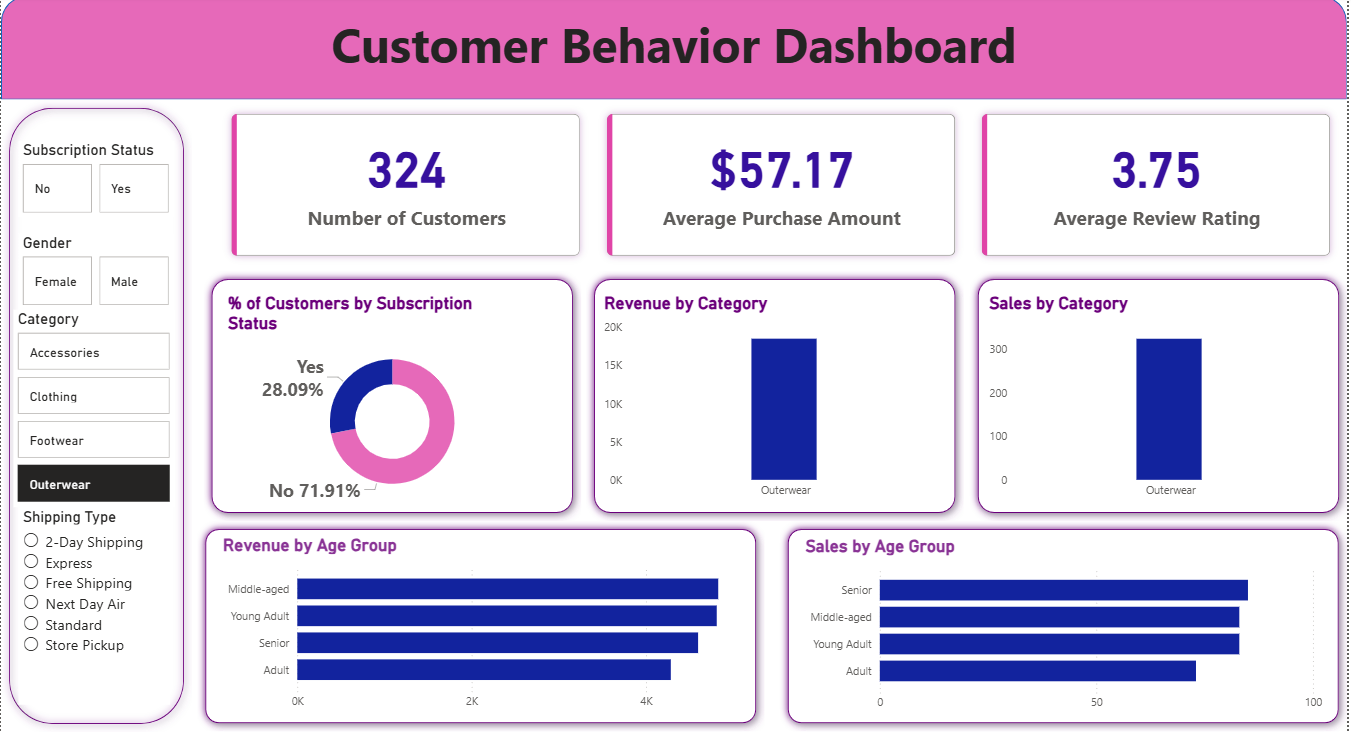

Layout of this report page (visuals, bound fields, positions):
{"tool":"powerbi","page":{"name":"Page 1","canvas":[1500,820],"ordinal":0},"visuals":[{"type":"cardVisual","fields":{"Data":["public customer.Number of Customers","public customer.Average Purchase Amount","public customer.Average Review Rating"]},"box":[240.9,115.6,1259,190.8],"z":2000},{"type":"shape","box":[218.3,585.6,631.7,234.2],"z":2500,"group":"g1"},{"type":"shape","box":[0,0,1499.4,115.3],"z":3000},{"type":"textbox","box":[0,12.4,1499.4,102.9],"z":4000},{"type":"shape","box":[225.4,307,420.5,278.6],"z":5000},{"type":"donutChart","title":"% of Customers by Subscription Status","fields":{"Category":["public customer.subscription_status"],"Y":["CountNonNull(public customer.customer_id)"]},"box":[248.4,331.8,376.2,237.8],"z":6000},{"type":"shape","box":[1078.9,307,420.5,278.6],"z":7000},{"type":"shape","box":[652.1,307,420.5,278.6],"z":8000},{"type":"clusteredColumnChart","title":"Revenue by Category","fields":{"Y":["Sum(public customer.purchase_amount)"],"Category":["public customer.category"]},"box":[667.2,331.8,385.1,237.8],"z":9000},{"type":"clusteredColumnChart","title":"Sales by Category","fields":{"Y":["CountNonNull(public customer.customer_id)"],"Category":["public customer.category"]},"box":[1096.6,331.8,385.1,237.8],"z":10000},{"type":"shape","box":[0,115.3,212.9,704.5],"z":11000},{"type":"advancedSlicerVisual","fields":{"Values":["public customer.subscription_status"]},"box":[19.5,161.5,173.9,85.2],"z":12000},{"type":"advancedSlicerVisual","fields":{"Values":["public customer.gender"]},"box":[19.5,264.4,173.9,85.2],"z":13000},{"type":"advancedSlicerVisual","fields":{"Values":["public customer.category"]},"box":[13.9,349.6,179.7,220],"z":14000},{"type":"listSlicer","fields":{"Values":["public customer.shipping_type"]},"box":[19.5,569.6,168.6,220],"z":15000},{"type":"shape","box":[867.7,585.6,631.7,234.2],"z":16000},{"type":"clusteredBarChart","title":"Sales by Age Group","fields":{"Y":["CountNonNull(public customer.customer_id)"],"Category":["public customer.age_group"]},"box":[890.8,601.5,585.6,204.1],"z":17000},{"type":"clusteredBarChart","title":"Revenue by Age Group","fields":{"Y":["Sum(public customer.purchase_amount)"],"Category":["public customer.age_group"]},"box":[241.4,601.6,585.6,204.1],"z":17500,"group":"g1"},{"type":"group","id":"g1","title":"Group 1","box":[218.3,585.6,631.7,234.2],"z":17501}]}

Visuals, with their boxes in screenshot pixels (x1, y1, x2, y2), scaled from the page's 1500x820 canvas onto the 1351x732 screenshot:
cardVisual - public customer.Number of Customers x public customer.Average Purchase Amount: bbox=[217, 103, 1350, 274]
shape: bbox=[197, 523, 766, 731]
shape: bbox=[0, 0, 1350, 103]
textbox: bbox=[0, 11, 1350, 103]
shape: bbox=[203, 274, 582, 523]
"% of Customers by Subscription Status" donutChart: bbox=[224, 296, 563, 508]
shape: bbox=[972, 274, 1350, 523]
shape: bbox=[587, 274, 966, 523]
"Revenue by Category" clusteredColumnChart: bbox=[601, 296, 948, 508]
"Sales by Category" clusteredColumnChart: bbox=[988, 296, 1335, 508]
shape: bbox=[0, 103, 192, 731]
advancedSlicerVisual - public customer.subscription_status: bbox=[18, 144, 174, 220]
advancedSlicerVisual - public customer.gender: bbox=[18, 236, 174, 312]
advancedSlicerVisual - public customer.category: bbox=[13, 312, 174, 508]
listSlicer - public customer.shipping_type: bbox=[18, 508, 169, 705]
shape: bbox=[782, 523, 1350, 731]
"Sales by Age Group" clusteredBarChart: bbox=[802, 537, 1330, 719]
"Revenue by Age Group" clusteredBarChart: bbox=[217, 537, 745, 719]
"Group 1" group: bbox=[197, 523, 766, 731]
